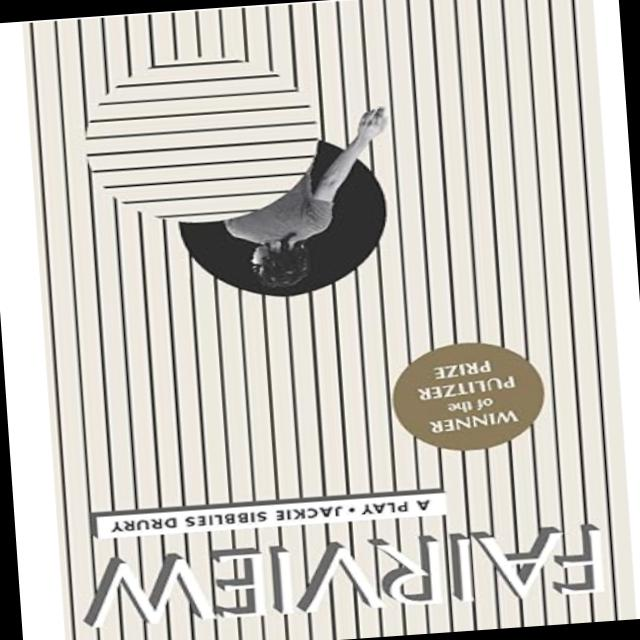titles-or-authors: (70, 512, 616, 638), (94, 497, 346, 539)
